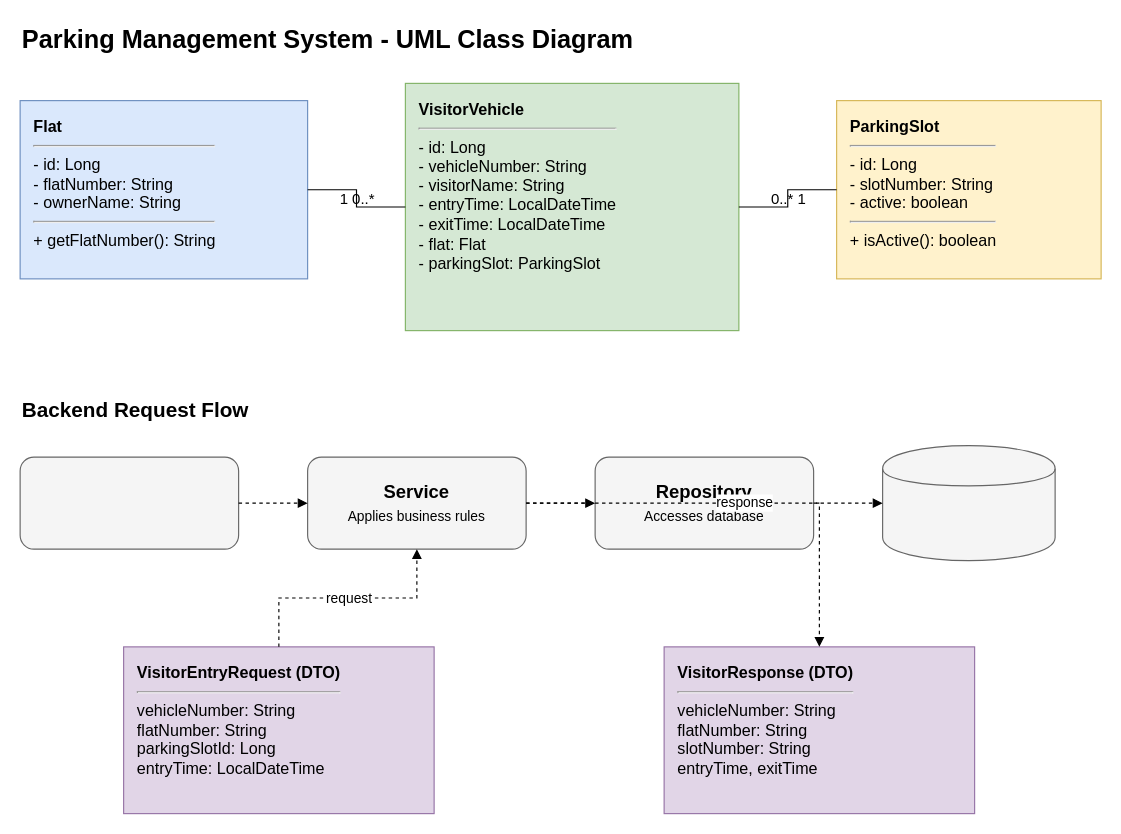
Image size: 1121x834. Some labels were removed from this diagram. The shapes that lost their labels are listed below. From the top down, each one's centre as x and y in pixels, then its label:
At point 129,502: "Controller Receives HTTP requests".
At point 968,502: "Database Stores entity data".
